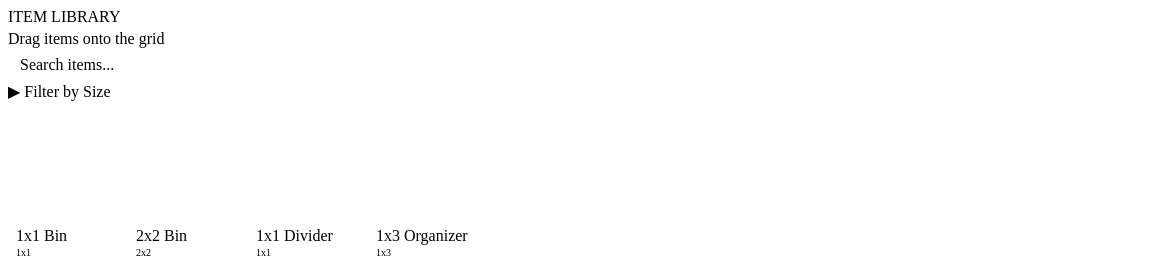
Test: ItemLibrary › should filter items by search query
Type "2x2" into the field with placeholder "Search items...".
click(576, 65); type("2x2")  # box left=8, top=48, right=1144, bottom=82
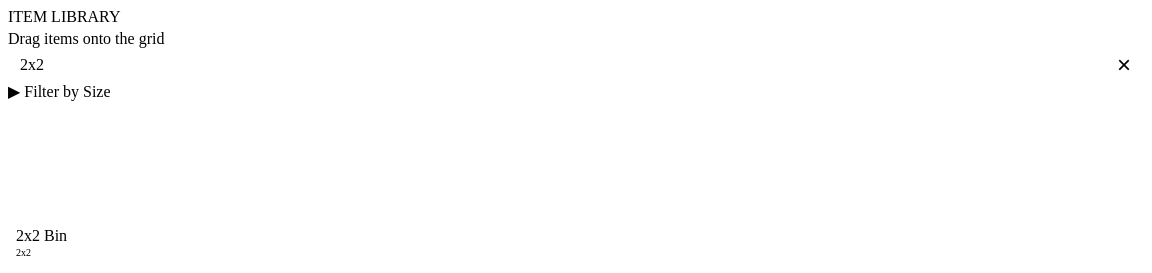
Expected: the text "2x2 Bin" is shown, left=16, top=227, right=67, bottom=244
Now the button "1x1 Bin" is gone
